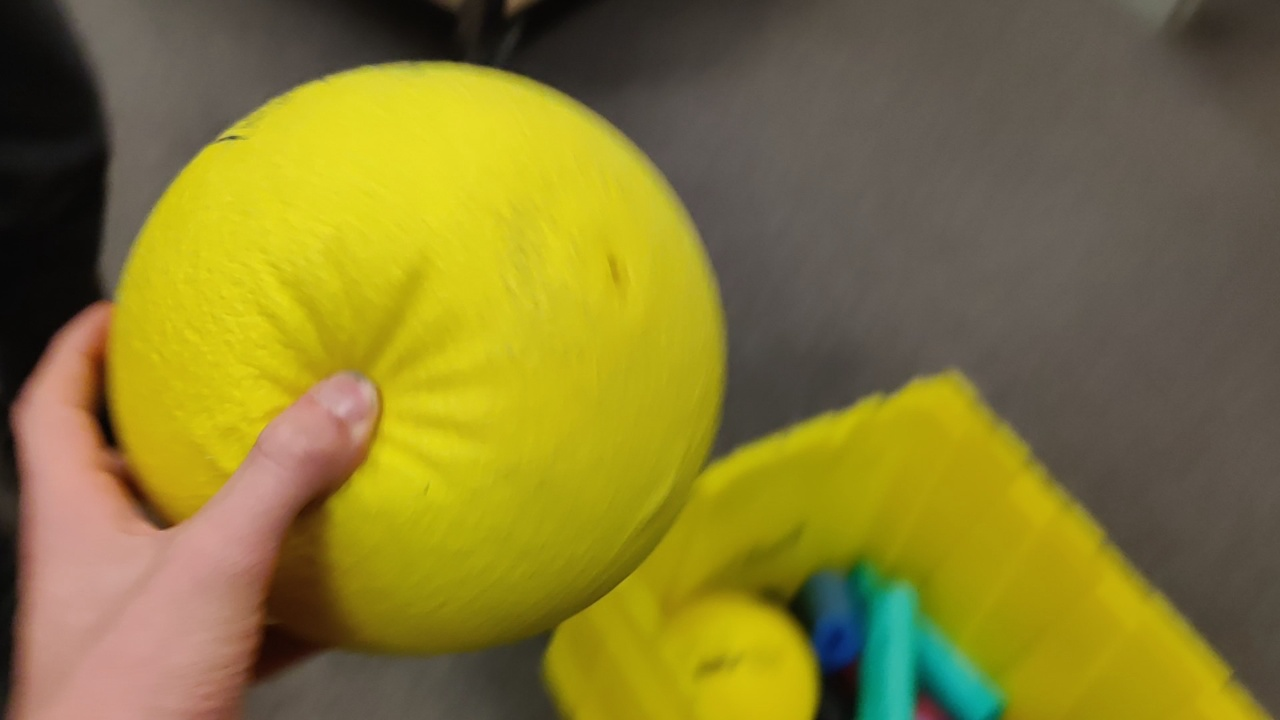Ball: (134, 60, 729, 598)
